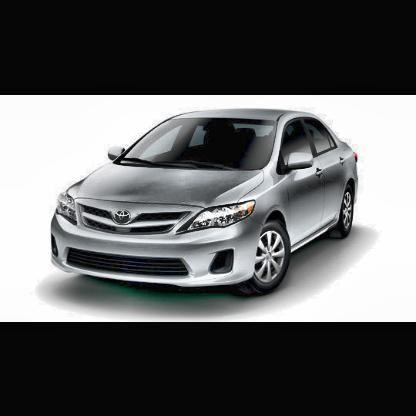Toyota Corolla Sedan 2012: (51, 107, 361, 298)
